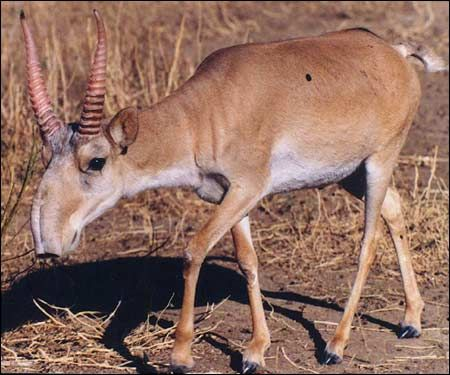saiga: (13, 11, 447, 371)
